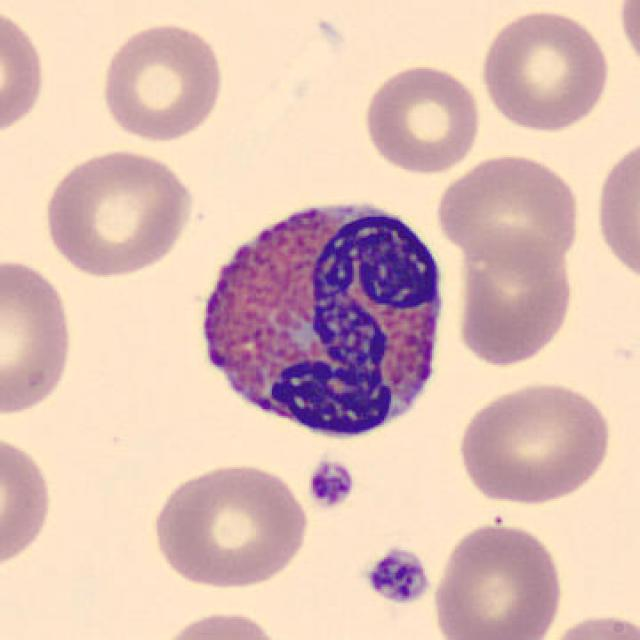Eosinophil: (185, 181, 455, 455)
Platelets: (361, 543, 434, 608), (304, 457, 357, 511)
RBC: (146, 457, 313, 592), (452, 377, 615, 508), (39, 144, 197, 278), (432, 148, 583, 277), (452, 228, 578, 370), (476, 5, 614, 134), (429, 518, 567, 640), (96, 18, 228, 144), (359, 60, 484, 176), (0, 252, 78, 420), (0, 428, 57, 576), (592, 130, 638, 291), (0, 2, 48, 143), (153, 606, 290, 640), (538, 608, 640, 639), (613, 0, 640, 81)
